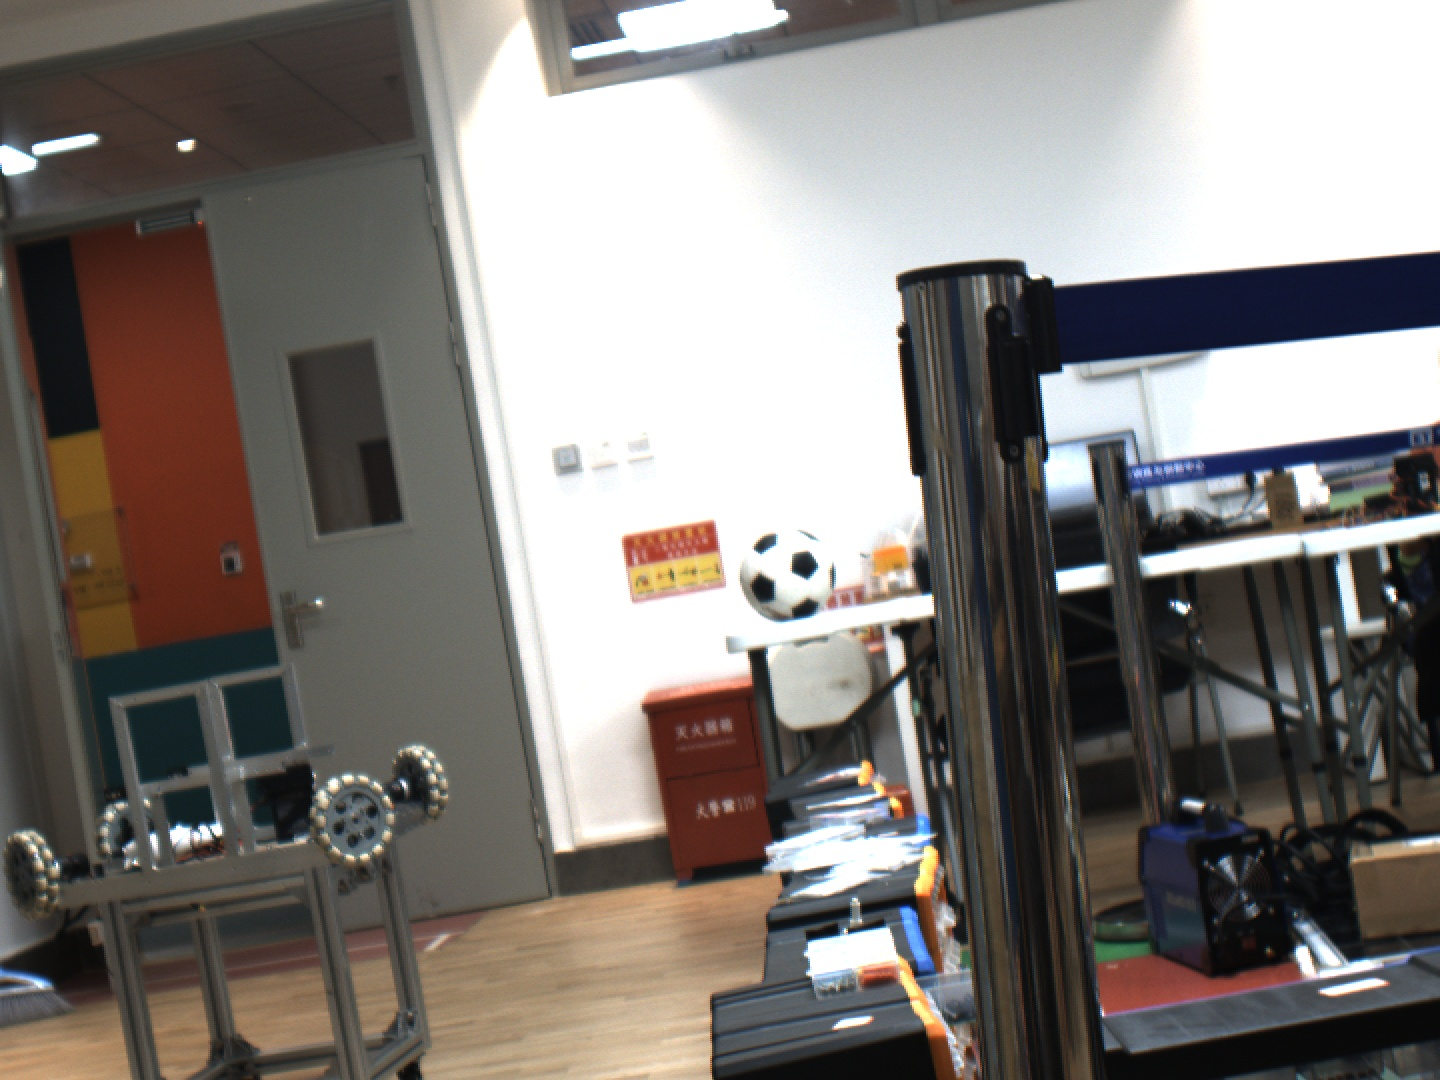ball: (732, 518, 842, 627)
